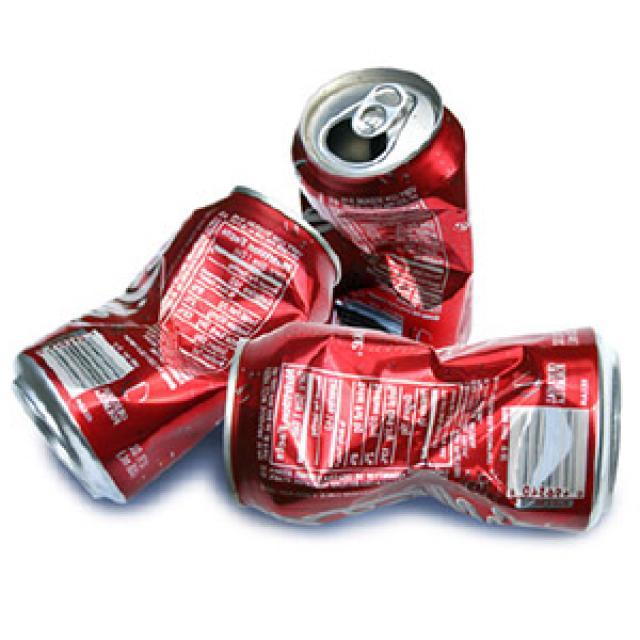can: (0, 192, 341, 522), (209, 288, 637, 548), (288, 13, 490, 332)
